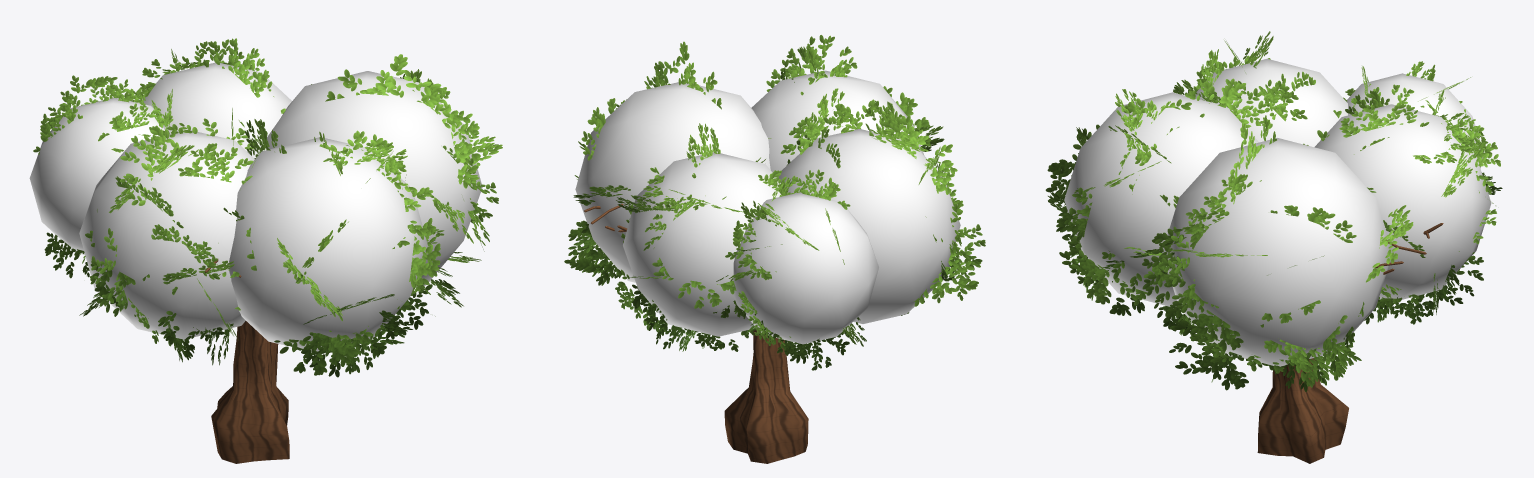
The model's file is grown_acacia1.gltf.
3 renders of one model, left to right at view 1: azimuth 30°, elevation 25°; view 2: azimuth 150°, elevation 25°; view 3: azimuth 270°, elevation 25°, orthographic. The views are drawn at different scales.
Parts seen in each view (by area): view 1: grown_acacia1_shadow_LOD0, grown_acacia1_leaves_LOD0, grown_acacia1_trunk_LOD0; view 2: grown_acacia1_shadow_LOD0, grown_acacia1_leaves_LOD0, grown_acacia1_trunk_LOD0; view 3: grown_acacia1_shadow_LOD0, grown_acacia1_leaves_LOD0, grown_acacia1_trunk_LOD0.
Boxes of the visible parts, left/top/right/bottom form: grown_acacia1_shadow_LOD0: left=29, top=62, right=482, bottom=351; grown_acacia1_leaves_LOD0: left=33, top=38, right=502, bottom=377; grown_acacia1_trunk_LOD0: left=205, top=259, right=289, bottom=463; grown_acacia1_shadow_LOD0: left=575, top=70, right=960, bottom=344; grown_acacia1_leaves_LOD0: left=564, top=35, right=985, bottom=370; grown_acacia1_trunk_LOD0: left=584, top=203, right=808, bottom=463; grown_acacia1_shadow_LOD0: left=1064, top=58, right=1491, bottom=366; grown_acacia1_leaves_LOD0: left=1045, top=31, right=1502, bottom=391; grown_acacia1_trunk_LOD0: left=1257, top=223, right=1443, bottom=463.
Size of what is drawn, in the model's own units: 13.03 by 11.24 by 12.71.
Materials: 3 (2 with a texture image).
